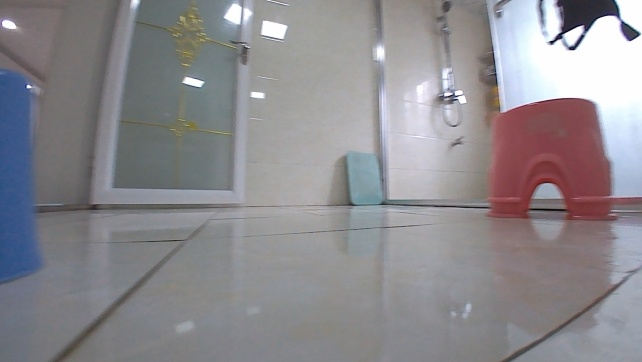door_anno: (85, 0, 258, 211)
